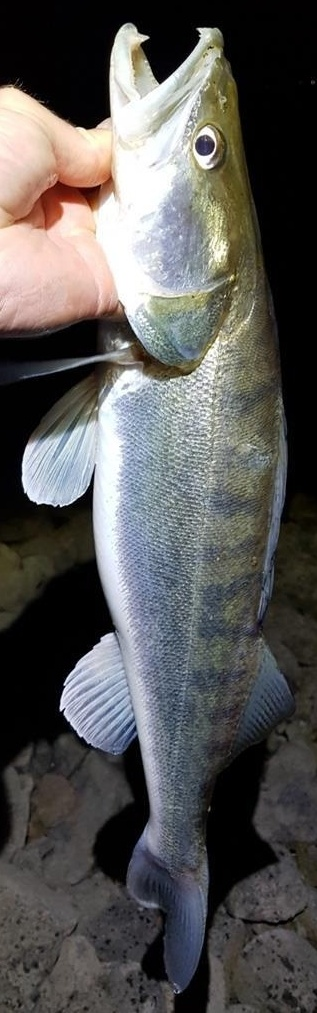Sander lucioperca: (20, 20, 297, 993)
